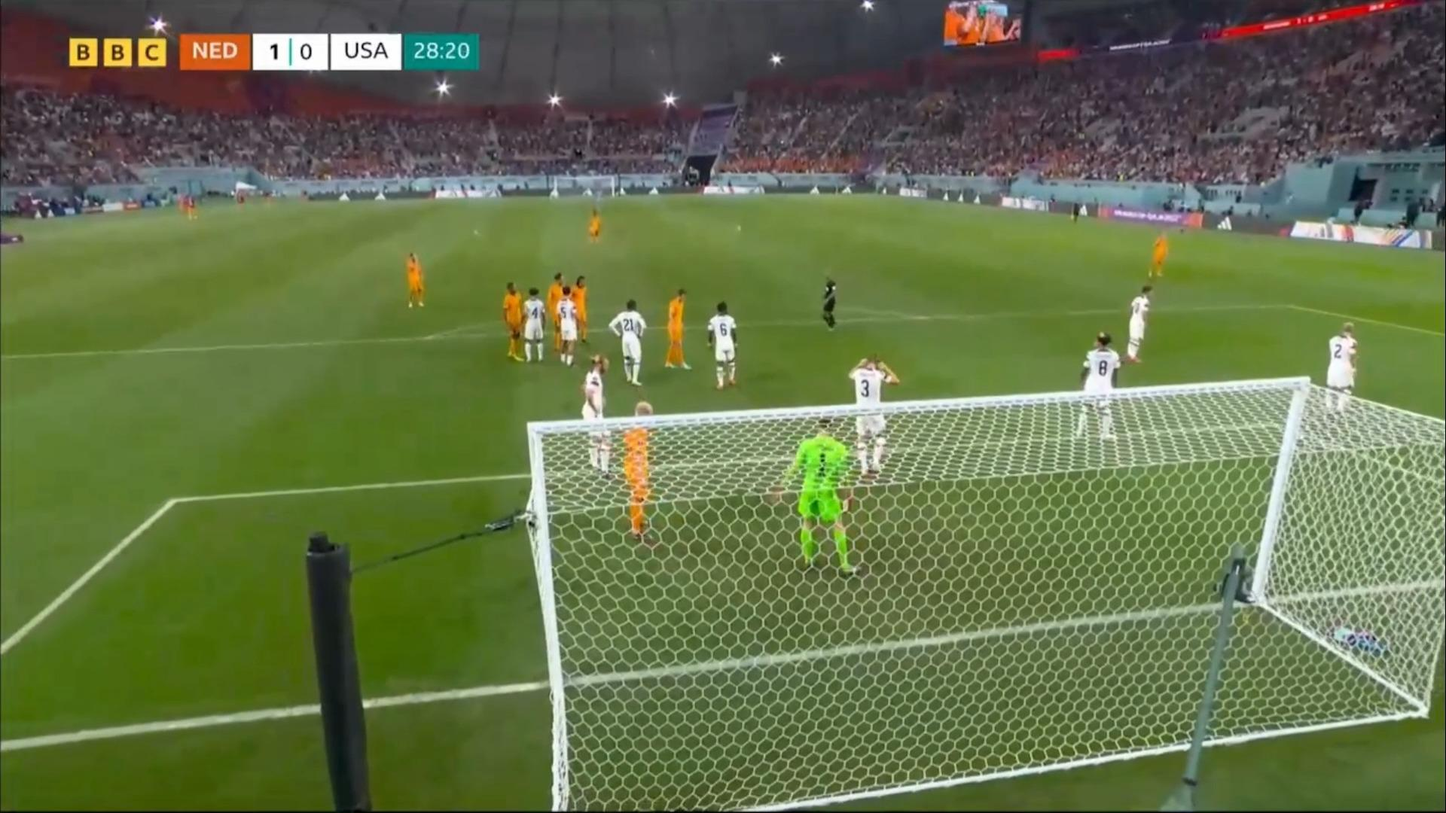Player: (773, 411, 860, 577), (847, 351, 900, 477), (1073, 331, 1122, 444), (620, 404, 659, 544), (581, 355, 614, 482), (699, 296, 742, 391), (1321, 321, 1360, 418), (499, 281, 542, 366), (656, 290, 697, 374), (612, 297, 651, 385), (513, 289, 555, 365), (1122, 285, 1152, 364), (556, 287, 582, 369), (1142, 224, 1175, 284), (567, 274, 592, 346), (546, 273, 566, 350), (403, 251, 428, 310), (585, 206, 604, 247)
Ref: (819, 271, 840, 332), (1071, 201, 1081, 225)
